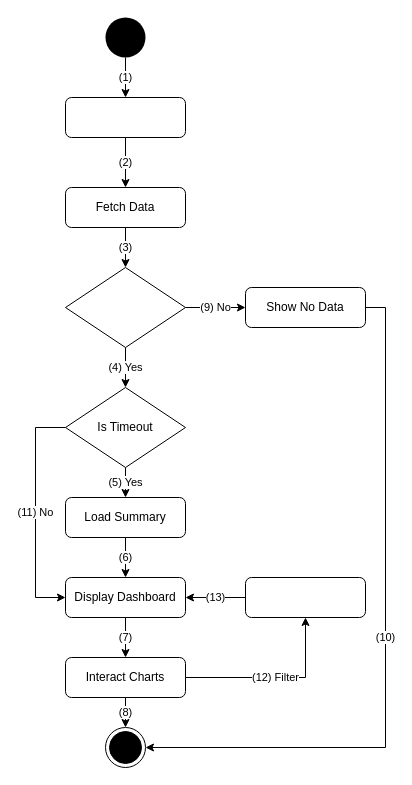
The diagram is 412 pixels wide and 785 high, and some of its shapes have lost their labels. The shapes that lost their labels are listed below. From the top down, each one's box as (x1, y1, x2, y2) in pixels, then its label:
(64, 96, 186, 138): Navigate Menu
(64, 266, 186, 348): Is Data Avail
(244, 576, 366, 618): Apply Filters
